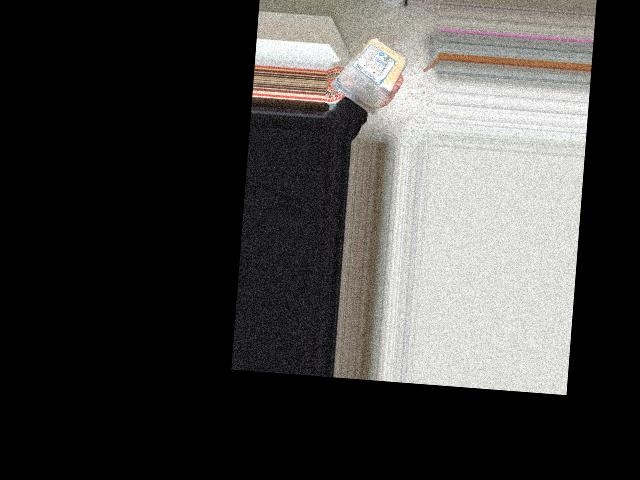cheese: (336, 32, 403, 108)
